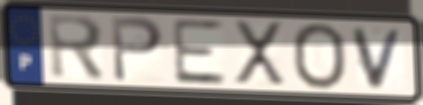E: (169, 16, 229, 87)
O: (290, 21, 349, 92)
P: (108, 14, 166, 85)
R: (46, 12, 108, 84)
V: (349, 27, 408, 91)
X: (231, 18, 288, 90)
